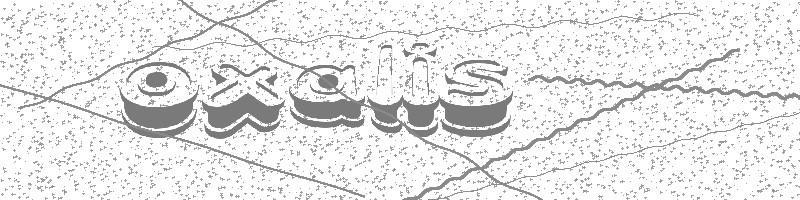a: (288, 63, 365, 129)
i: (402, 42, 439, 138)
l: (367, 44, 404, 134)
o: (118, 61, 201, 140)
s: (440, 58, 514, 138)
x: (202, 64, 286, 140)
